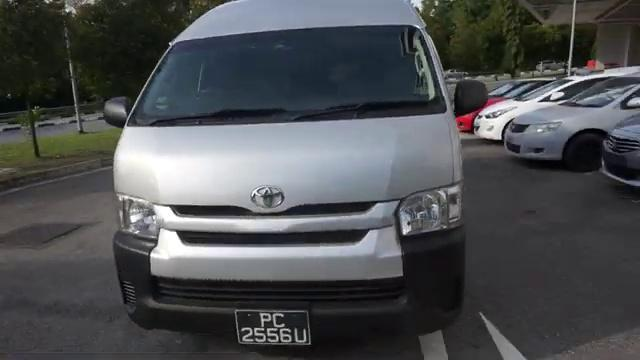Van: (112, 0, 465, 341)
